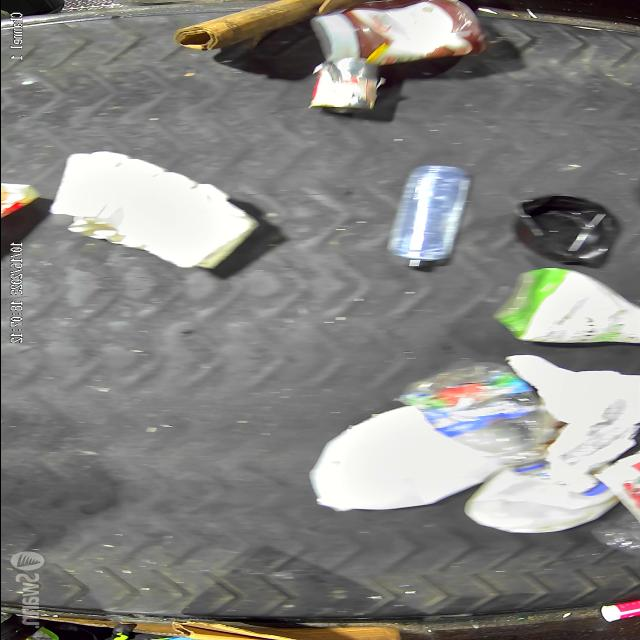can: (313, 56, 381, 112)
milk_jug: (312, 412, 482, 514)
plastic_bottle: (402, 363, 548, 477), (387, 164, 469, 274)
